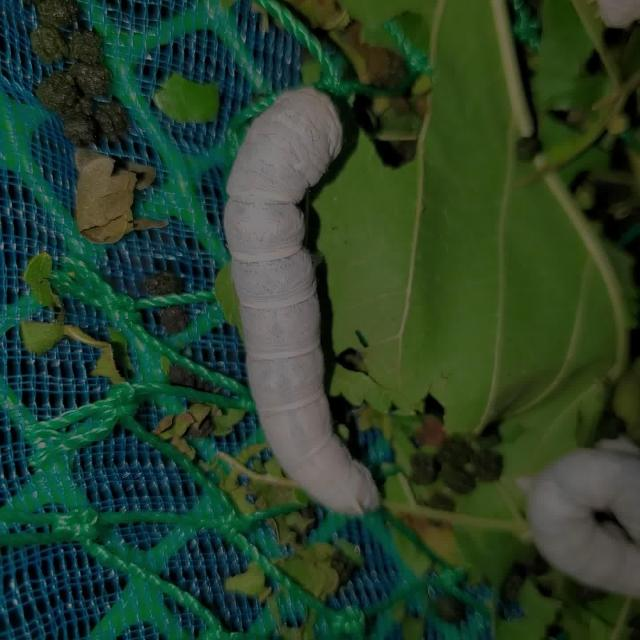Healthy: (202, 54, 419, 547)
